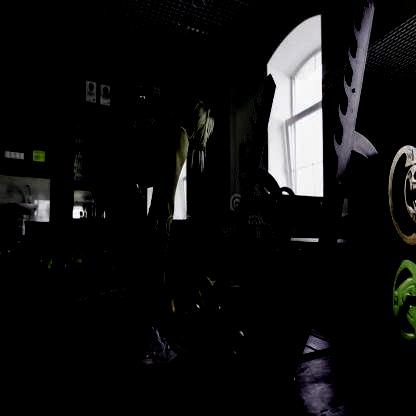Barbell: (231, 330, 248, 358)
